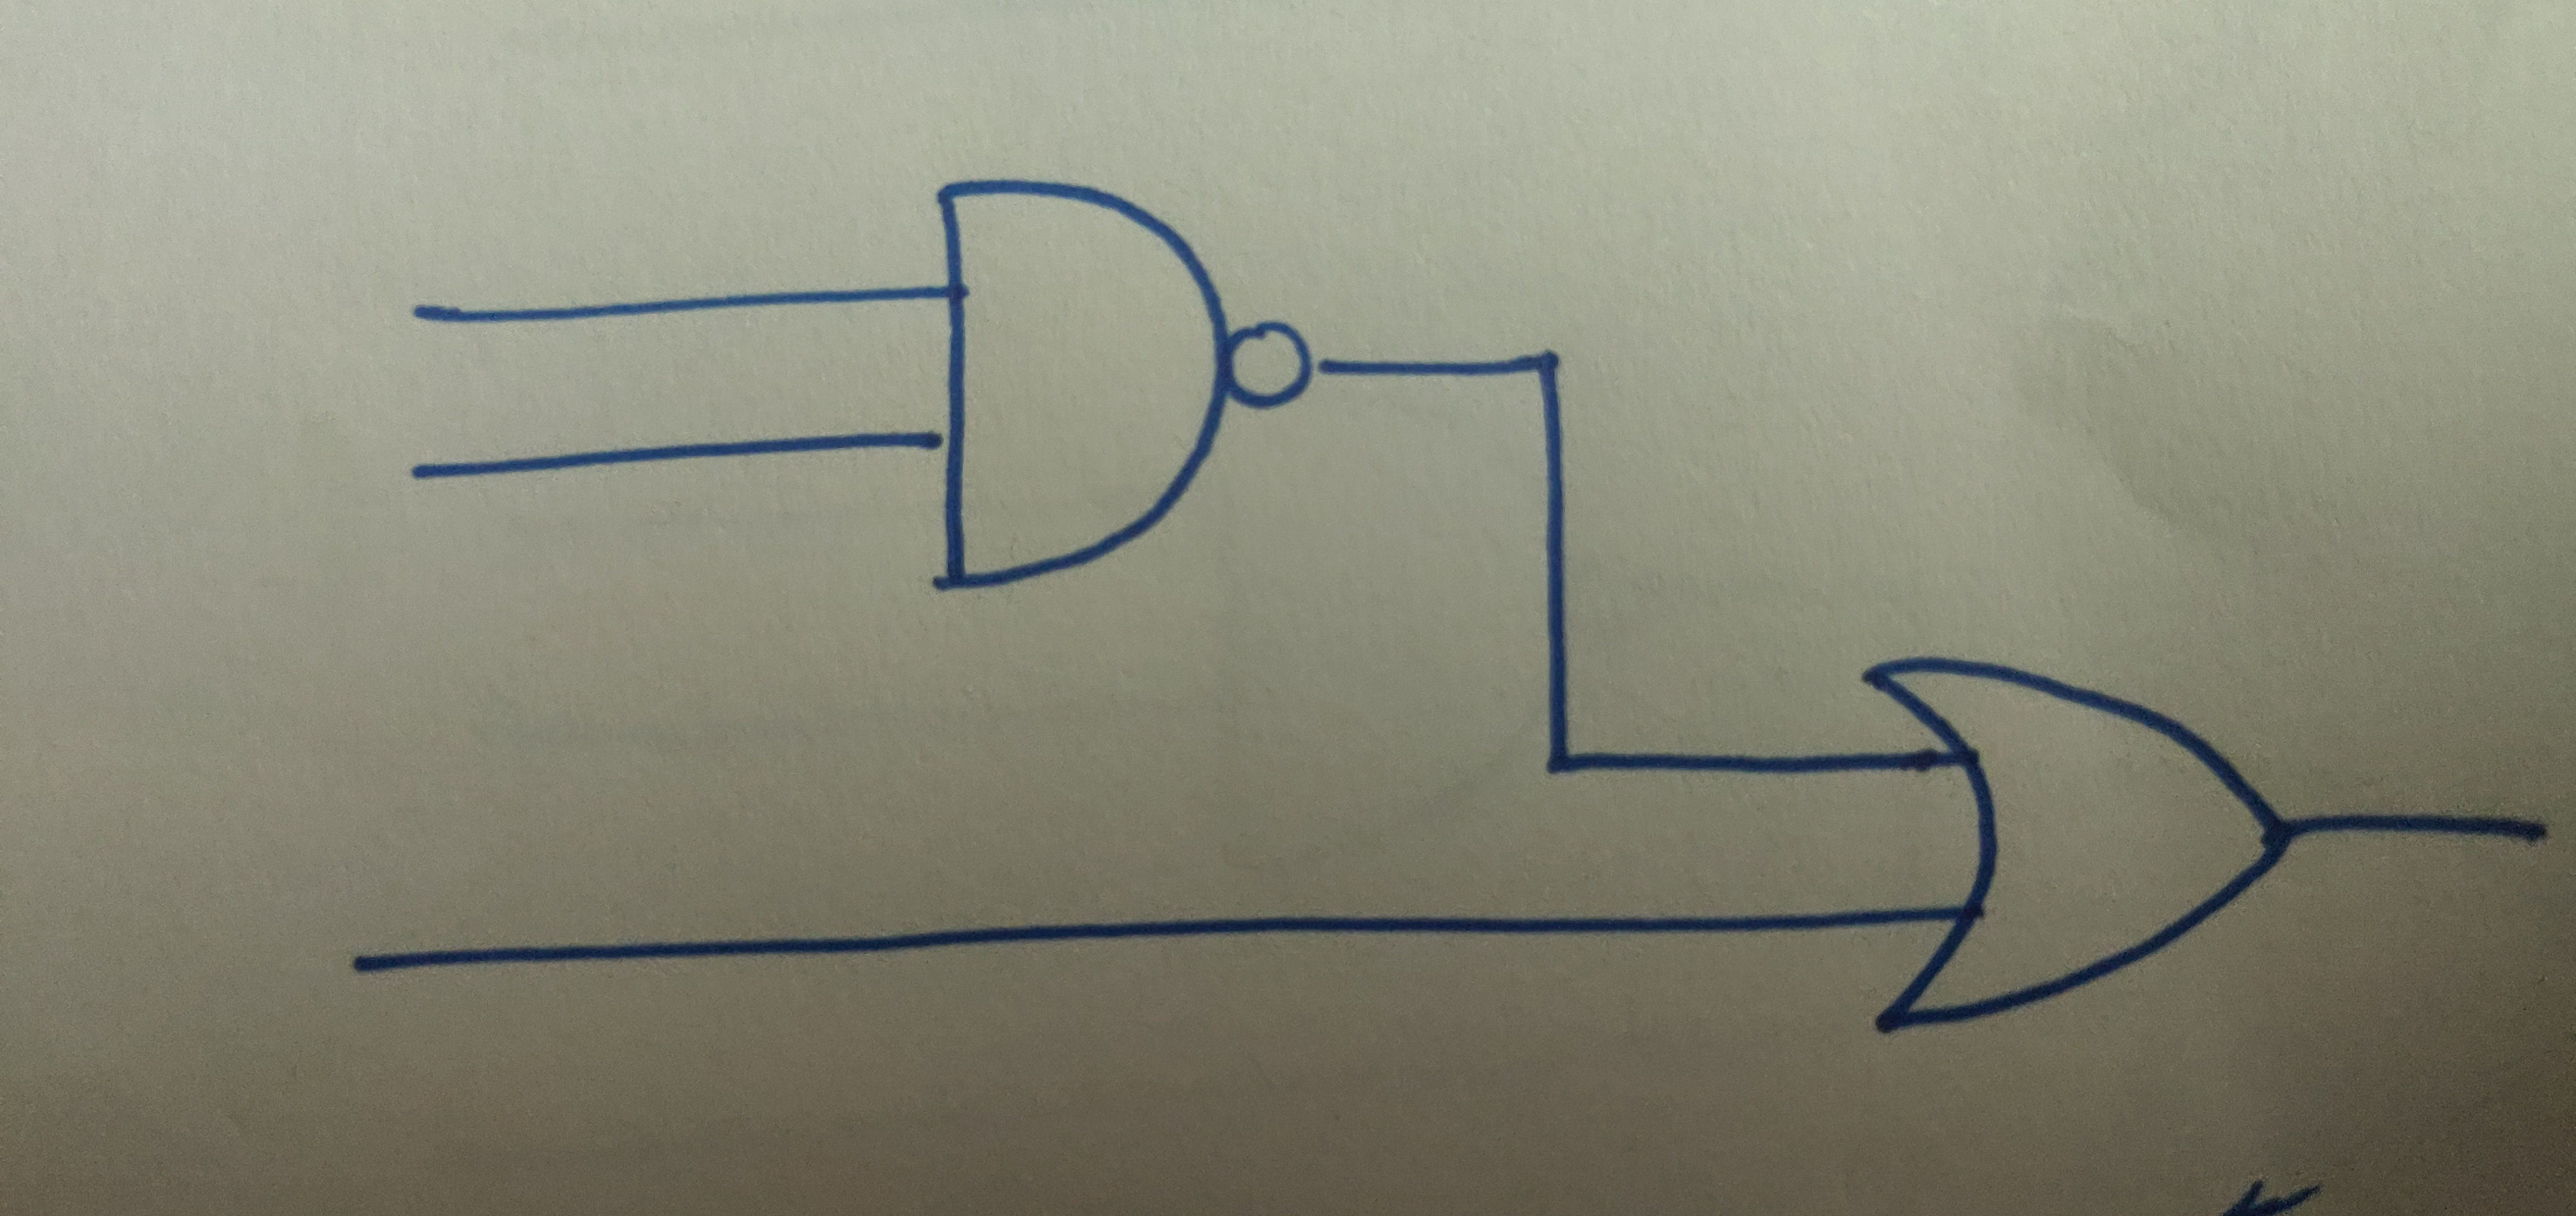and: (933, 171, 1229, 592)
not: (1239, 316, 1314, 414)
or: (1856, 654, 2300, 1039)
